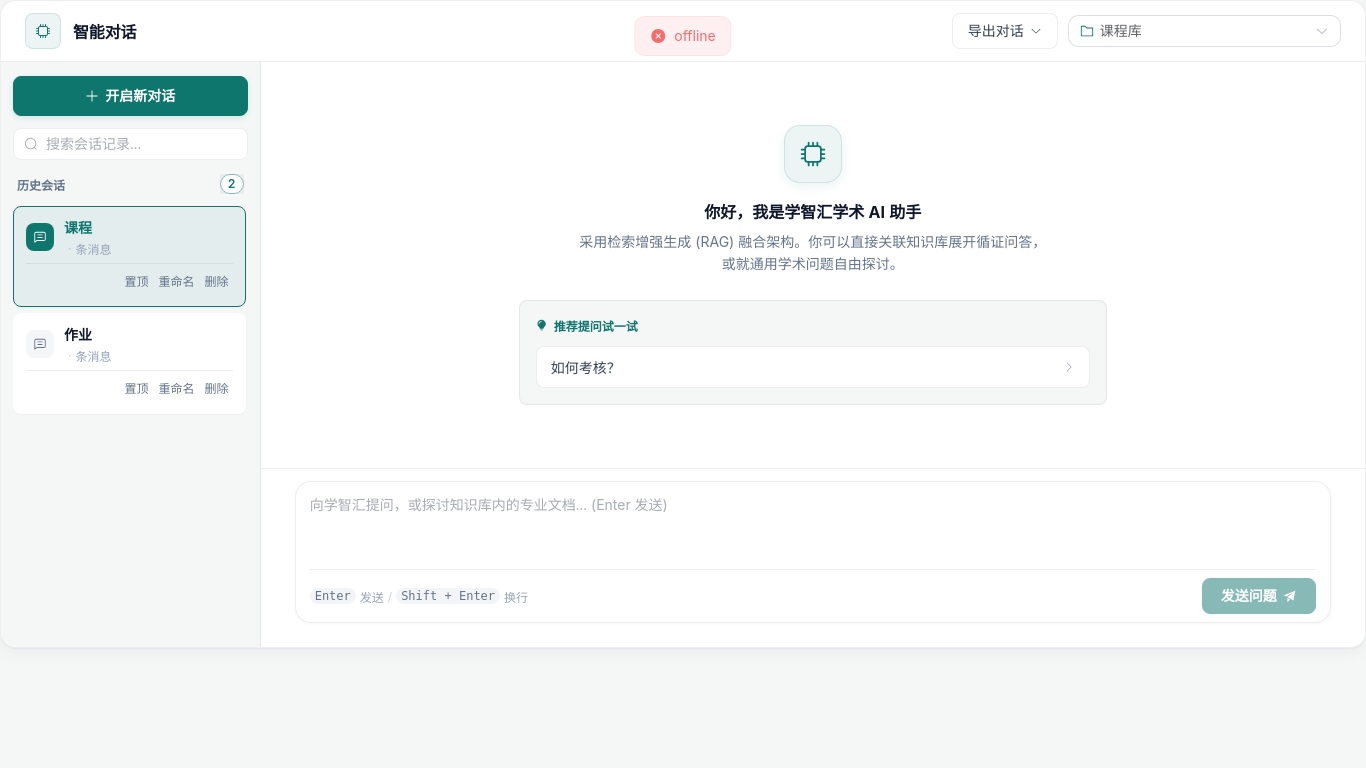
对话界面功能 › 选择知识库后常用问题可一键携带知识库发起提问
Click the button with class "suggest-chip": (586, 367) 536,346 -> 1090,388
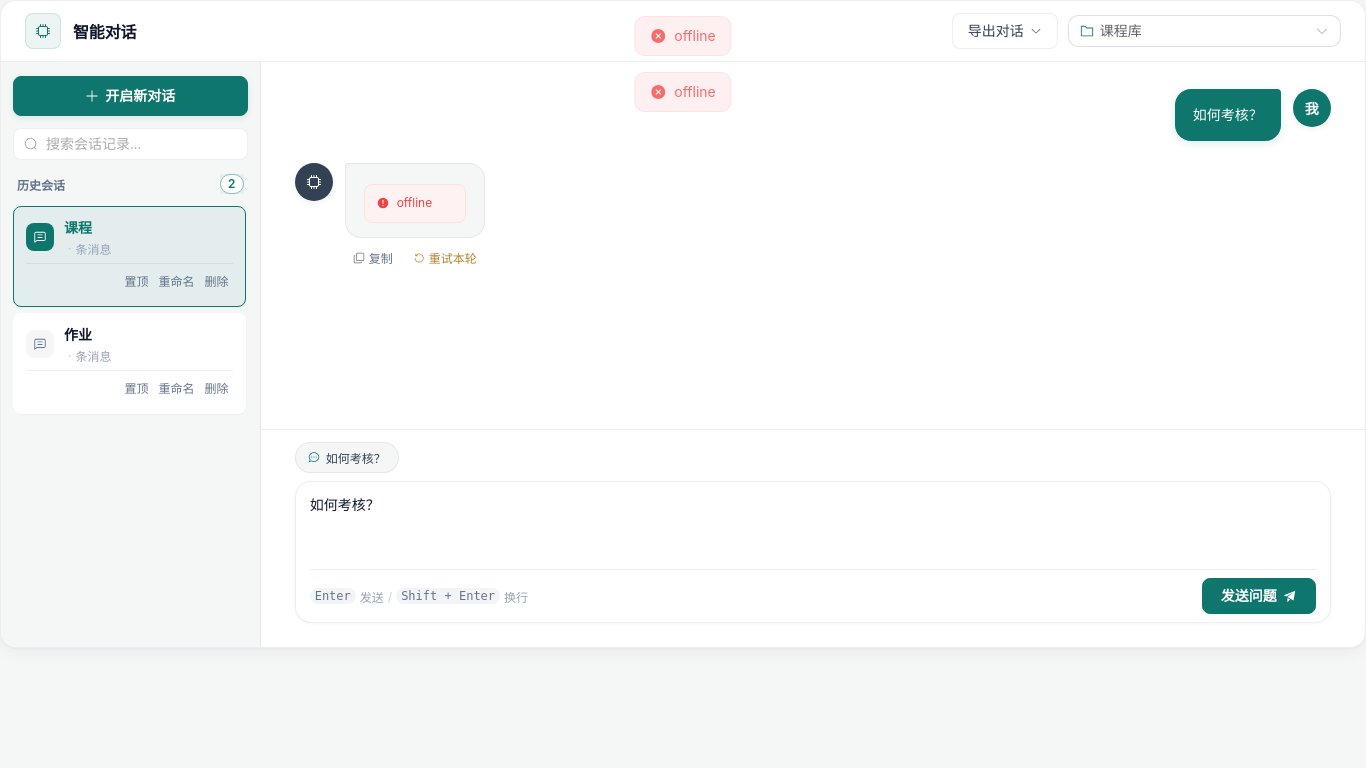
Now the text box named "问题内容" holds "如何考核？", box 310,492 -> 1316,563
